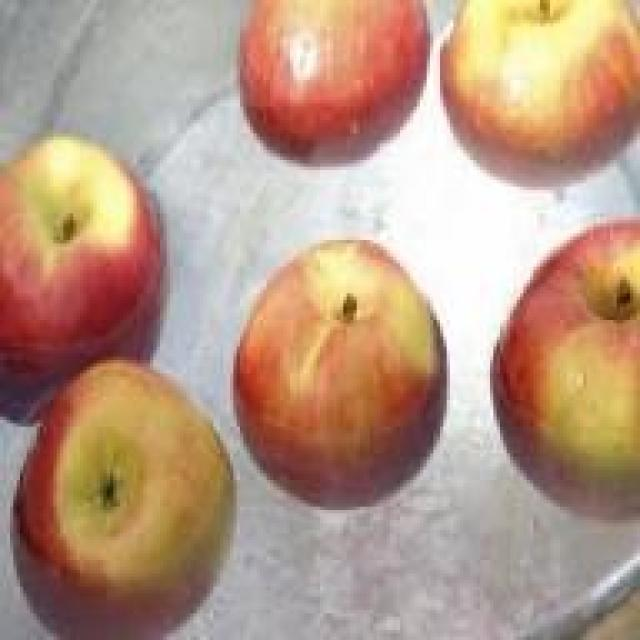apple: (23, 356, 230, 626), (237, 236, 450, 496), (490, 216, 640, 496), (7, 126, 163, 366)
